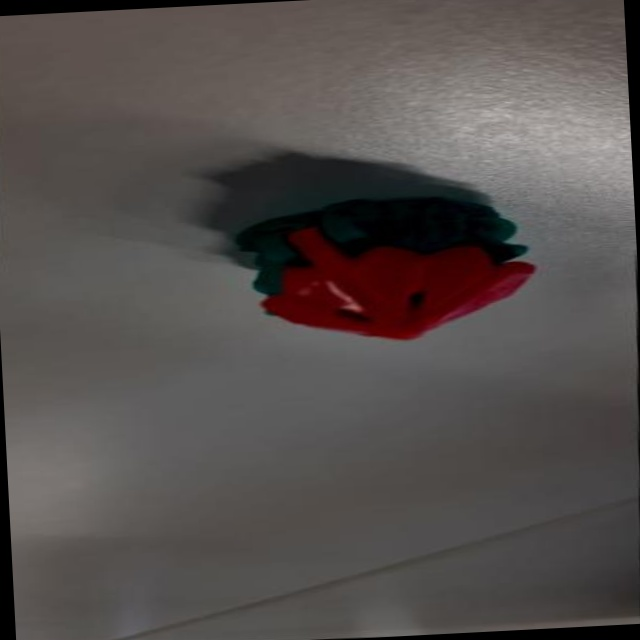House: (223, 190, 545, 352)
